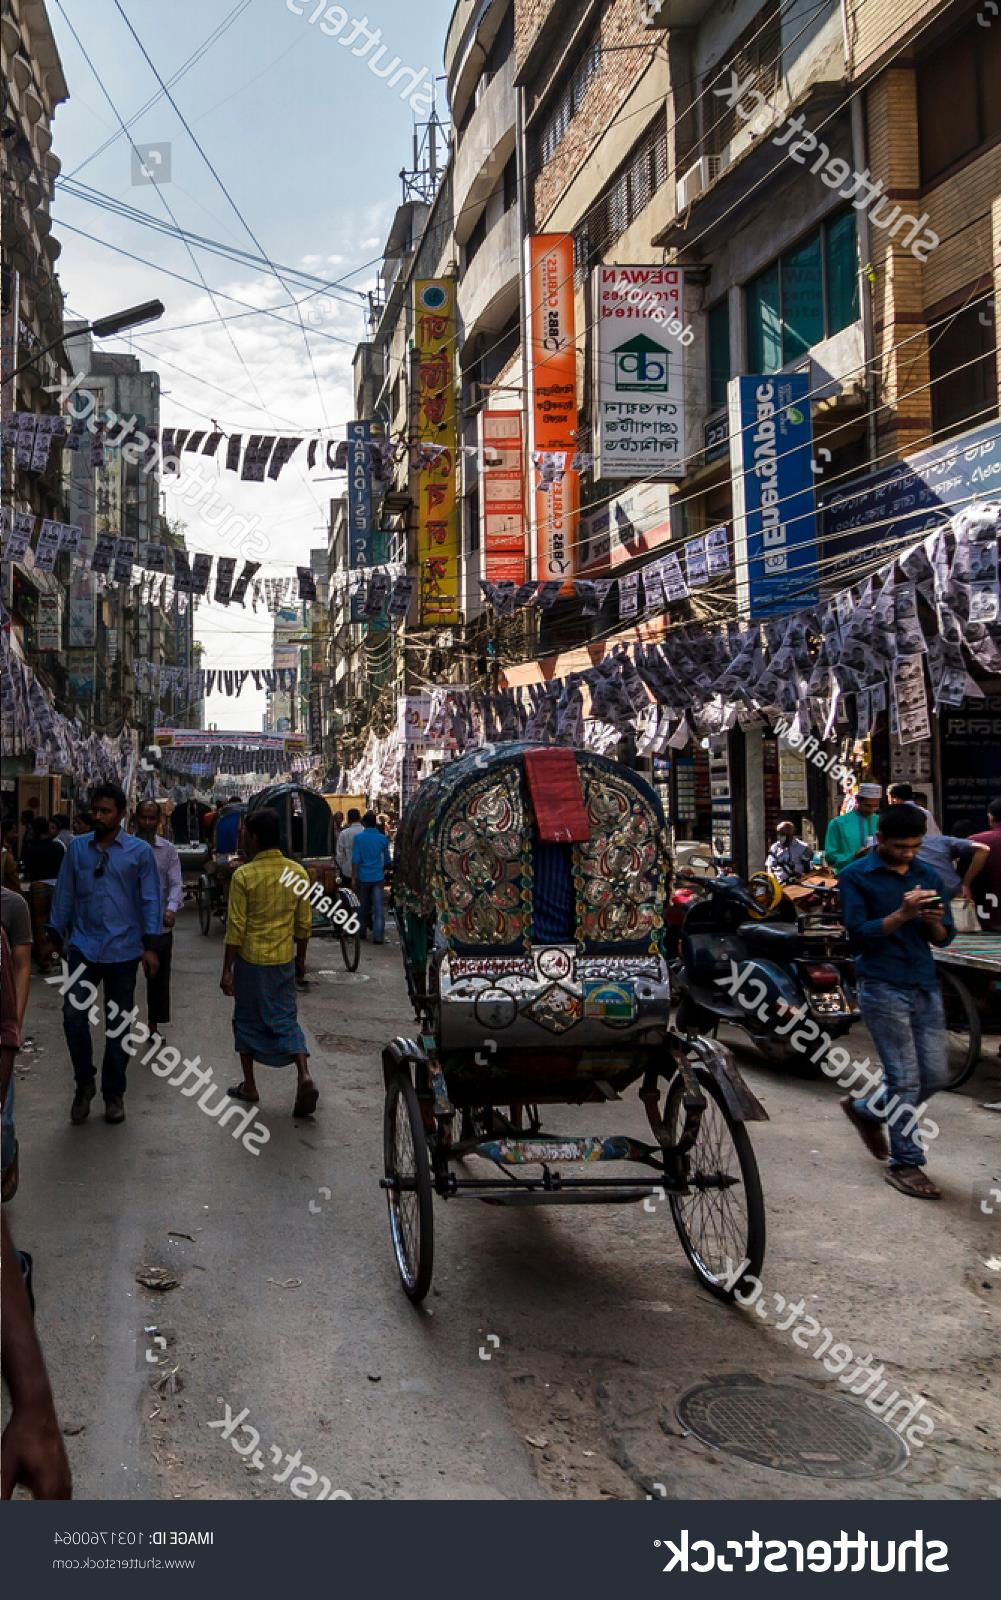Rickshaw: (398, 729, 768, 1286), (251, 769, 347, 934), (157, 787, 215, 910)
